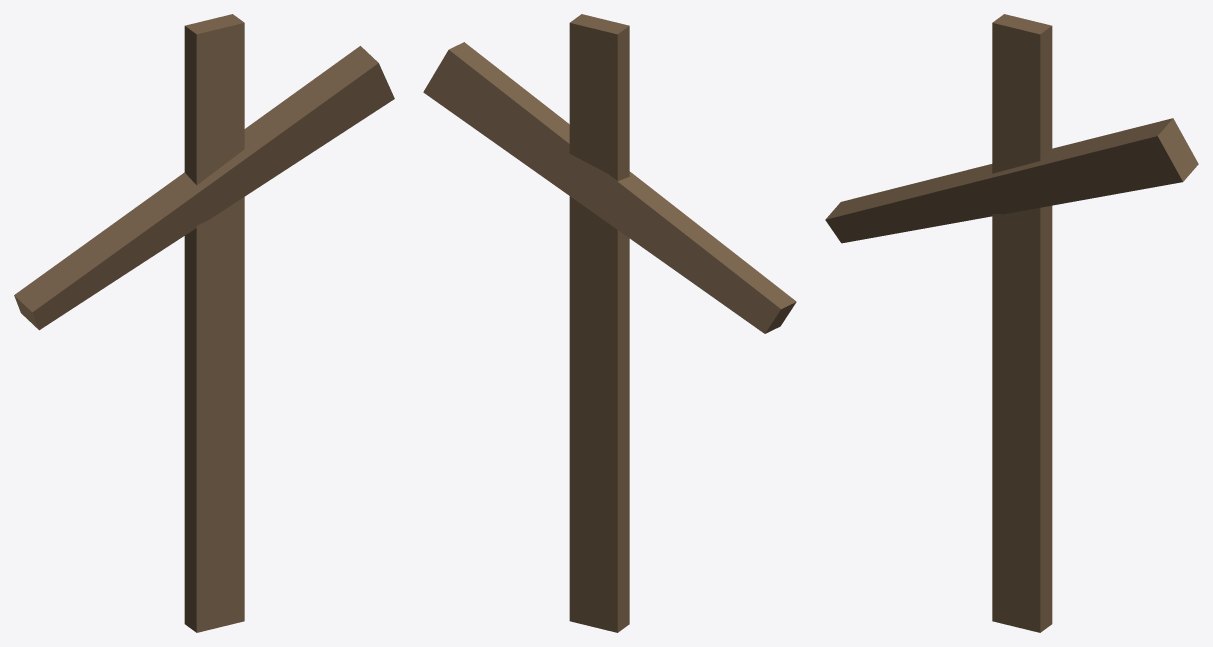
File: Cross_03.fbx
3 views of the same model, side by side, from view 1: azimuth 30°, elevation 25°; view 2: azimuth 150°, elevation 25°; view 3: azimuth 330°, elevation 25° (orthographic).
Parts seen in each view (by area): view 1: Cross_03; view 2: Cross_03; view 3: Cross_03.
Part boxes in pixels (bbox=[...]): Cross_03: bbox=[14, 14, 394, 632]; Cross_03: bbox=[423, 14, 796, 632]; Cross_03: bbox=[825, 14, 1198, 632].
Bounding box in the file's own units: 96.66 × 153 × 13.26.
